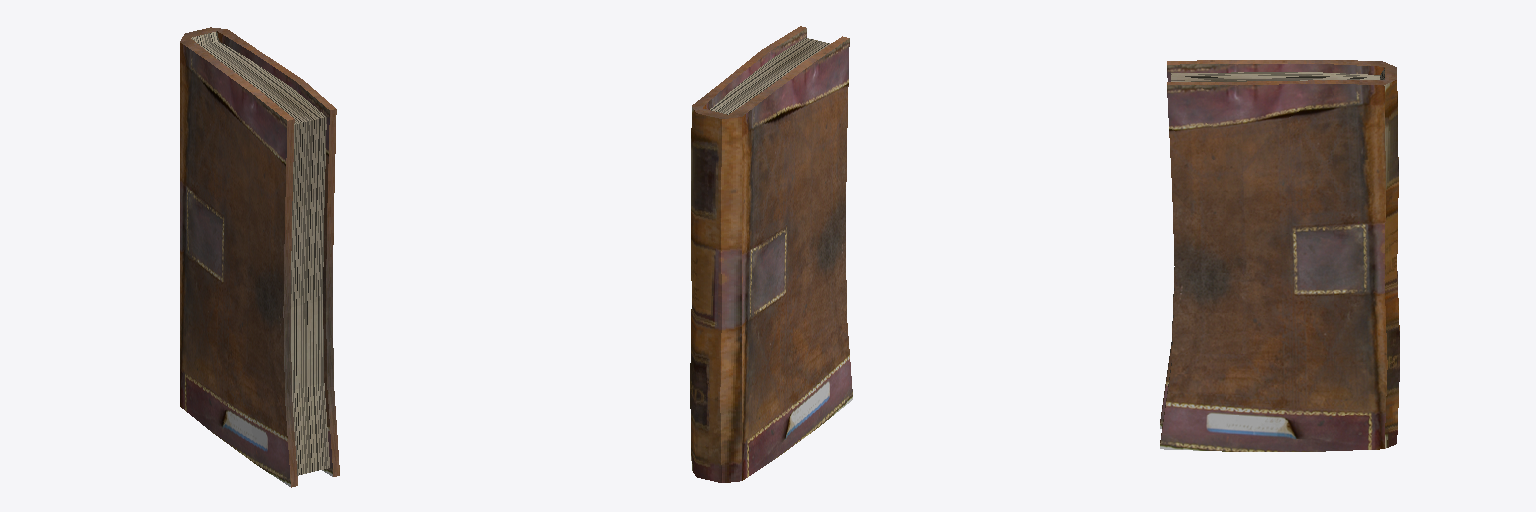
3 renders of one model, left to right at view 1: azimuth 30°, elevation 25°; view 2: azimuth 150°, elevation 25°; view 3: azimuth 270°, elevation 25°, orthographic.
Visible parts, largest first — view 1: book; view 2: book; view 3: book.
Boxes of the visible parts, <box> form: book: <box>180,27,339,487</box>; book: <box>690,26,852,482</box>; book: <box>1160,60,1399,451</box>.
Bounding box in the file's own units: 0.0833 × 0.5361 × 0.3176.
Materials: 1 (1 with a texture image).